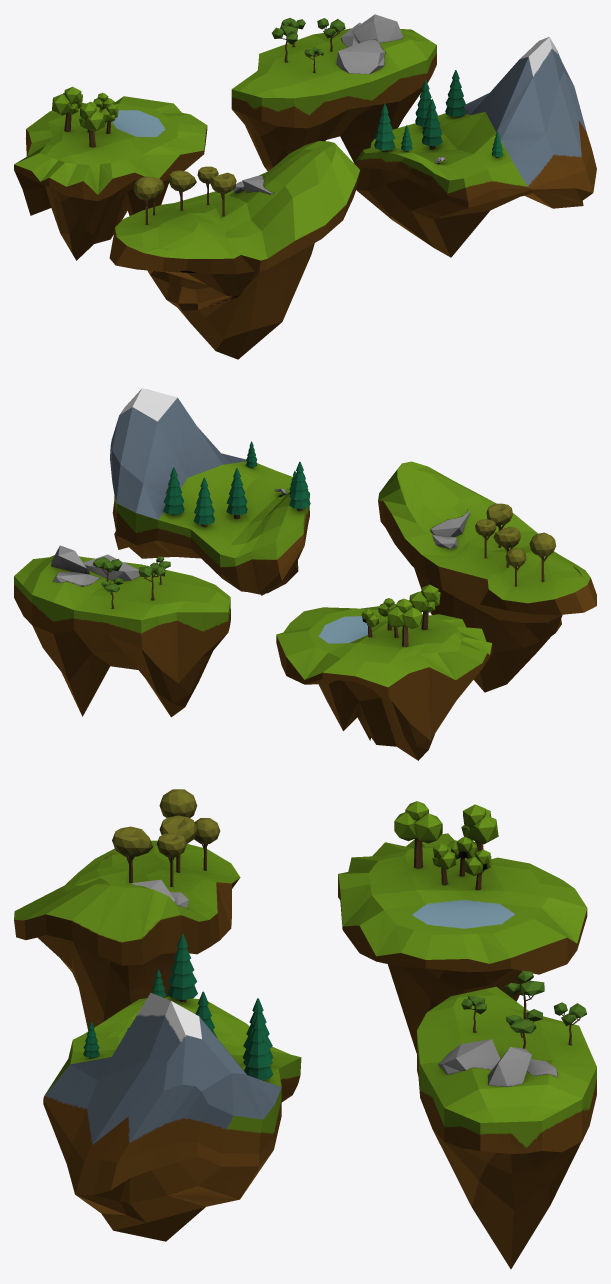
Rendered from floatIsland.fbx.
3 views of the same model, one above another, from view 1: azimuth 30°, elevation 25°; view 2: azimuth 150°, elevation 25°; view 3: azimuth 270°, elevation 25° (orthographic). The views are drawn at different scales.
Parts seen in each view (by area): view 1: Island1.004, Island1.005, Island1.003, Island1.002; view 2: Island1.005, Island1.004, Island1.003, Island1.002; view 3: Island1.005, Island1.003, Island1.002, Island1.004.
Part boxes in pixels (x1,y1,x2,y2): Island1.004: [109, 141, 360, 359]; Island1.005: [354, 37, 596, 257]; Island1.003: [231, 14, 436, 170]; Island1.002: [14, 86, 207, 260]; Island1.005: [110, 388, 310, 595]; Island1.004: [378, 461, 596, 692]; Island1.003: [14, 545, 230, 717]; Island1.002: [276, 584, 492, 760]; Island1.005: [43, 934, 301, 1241]; Island1.003: [417, 970, 596, 1268]; Island1.002: [338, 801, 587, 1053]; Island1.004: [14, 789, 240, 1030].
Bounding box in the file's own units: 7.76 × 3.69 × 5.97.
